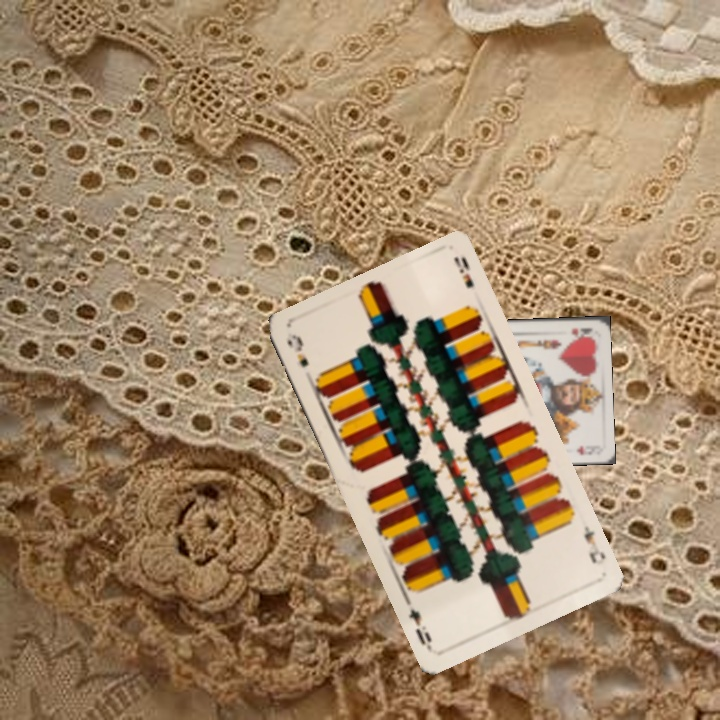E9: (579, 521, 609, 566), (283, 330, 312, 370)
HK: (567, 323, 594, 340)
